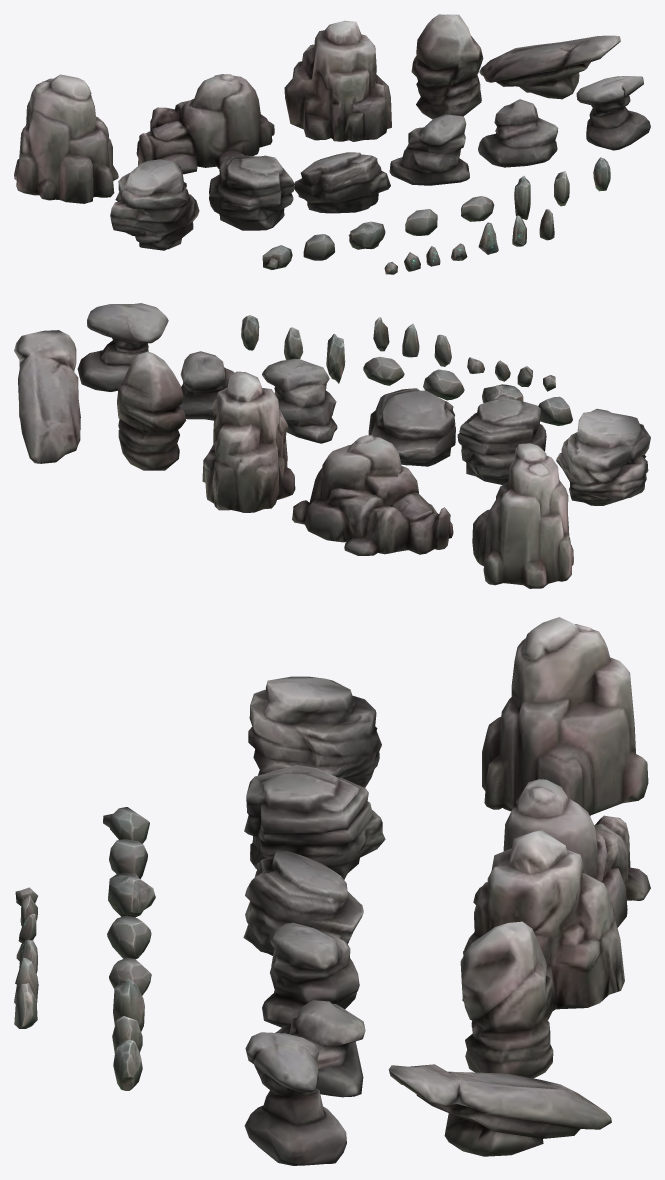
File: NAT_StonePack_lod.glb
The picture shows the model from 3 angles, top to bottom: view 1: azimuth 30°, elevation 25°; view 2: azimuth 150°, elevation 25°; view 3: azimuth 270°, elevation 25°; orthographic projection. The views are drawn at different scales.
Visible parts, largest first — view 1: BIG_1_BiG_0, Big_3_BiG_0, Big_2_BiG_0, Mid_4_MID_0 (×2), Mid_1_MID_0, Big_4_BiG_0, Mid_2_MID_0, Big_5_BiG_0, Mid_3_MID_0, Mid_5_MID_0, Small_3_SMall_0, Small_4_SMall_0 (+8 smaller); view 2: Big_2_BiG_0, BIG_1_BiG_0, Big_3_BiG_0, Big_5_BiG_0, Mid_1_MID_0, Mid_4_MID_0 (×2), Big_4_BiG_0, Mid_3_MID_0, Mid_2_MID_0, Mid_5_MID_0, Small_4_SMall_0, Small_5_SMall_0 (+7 smaller); view 3: BIG_1_BiG_0, Big_3_BiG_0, Big_4_BiG_0, Big_5_BiG_0, Mid_4_MID_0 (×2), Mid_1_MID_0, Mid_2_MID_0, Mid_5_MID_0, Big_2_BiG_0, Mid_3_MID_0, Small_3_SMall_0, Small_4_SMall_0 (+6 smaller).
Part boxes in pixels (x1=…): BIG_1_BiG_0: x1=14, y1=74, x2=118, y2=203; Big_3_BiG_0: x1=284, y1=20, x2=391, y2=141; Big_2_BiG_0: x1=136, y1=74, x2=274, y2=174; Mid_4_MID_0 (×2): x1=389, y1=99, x2=558, y2=185; Mid_1_MID_0: x1=110, y1=159, x2=199, y2=250; Big_4_BiG_0: x1=411, y1=14, x2=483, y2=119; Mid_2_MID_0: x1=209, y1=155, x2=294, y2=230; Big_5_BiG_0: x1=479, y1=35, x2=620, y2=99; Mid_3_MID_0: x1=294, y1=152, x2=390, y2=213; Mid_5_MID_0: x1=576, y1=76, x2=650, y2=150; Small_3_SMall_0: x1=348, y1=221, x2=385, y2=249; Small_4_SMall_0: x1=405, y1=209, x2=437, y2=235; Big_2_BiG_0: x1=292, y1=435, x2=453, y2=555; BIG_1_BiG_0: x1=472, y1=443, x2=573, y2=588; Big_3_BiG_0: x1=202, y1=371, x2=295, y2=512; Big_5_BiG_0: x1=14, y1=330, x2=80, y2=463; Mid_1_MID_0: x1=556, y1=410, x2=650, y2=505; Mid_4_MID_0 (×2): x1=179, y1=351, x2=337, y2=443; Big_4_BiG_0: x1=117, y1=351, x2=186, y2=470; Mid_3_MID_0: x1=368, y1=388, x2=455, y2=466; Mid_2_MID_0: x1=457, y1=398, x2=546, y2=484; Mid_5_MID_0: x1=77, y1=303, x2=168, y2=391; Small_4_SMall_0: x1=423, y1=369, x2=464, y2=400; Small_5_SMall_0: x1=363, y1=357, x2=404, y2=385; BIG_1_BiG_0: x1=482, y1=617, x2=648, y2=815; Big_3_BiG_0: x1=462, y1=830, x2=624, y2=1020; Big_4_BiG_0: x1=460, y1=921, x2=553, y2=1078; Big_5_BiG_0: x1=388, y1=1064, x2=611, y2=1156; Mid_4_MID_0 (×2): x1=254, y1=922, x2=365, y2=1097; Mid_1_MID_0: x1=248, y1=676, x2=381, y2=787; Mid_2_MID_0: x1=244, y1=765, x2=385, y2=879; Mid_5_MID_0: x1=244, y1=1032, x2=346, y2=1165; Big_2_BiG_0: x1=473, y1=779, x2=650, y2=927; Mid_3_MID_0: x1=243, y1=850, x2=363, y2=955; Small_3_SMall_0: x1=108, y1=872, x2=155, y2=917; Small_4_SMall_0: x1=107, y1=915, x2=151, y2=959.
Size of the model in its own units: 29.57 by 6.13 by 18.97.
Materials: 6 (6 with a texture image).
